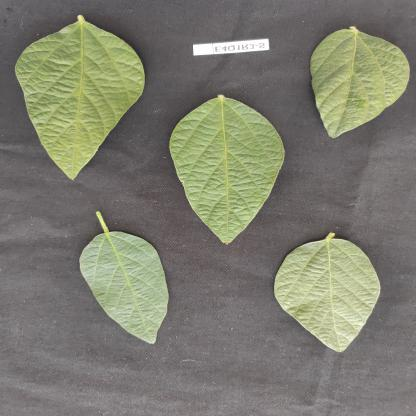label: (190, 34, 282, 58)
leaflets: (5, 10, 153, 192), (166, 93, 296, 248), (268, 232, 393, 360), (301, 21, 413, 140), (77, 221, 173, 349)
